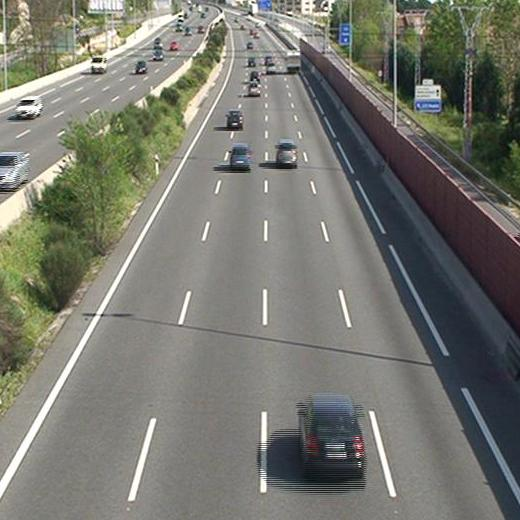car: (299, 397, 364, 477), (276, 142, 298, 167), (230, 145, 250, 169), (226, 112, 244, 129), (248, 83, 261, 96), (250, 71, 260, 82), (265, 63, 275, 74), (247, 56, 256, 66), (263, 56, 271, 66)
small-truck: (285, 50, 301, 74)
